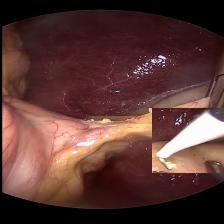Grasper: (204, 67, 224, 123)
Hook: (151, 108, 224, 173)
